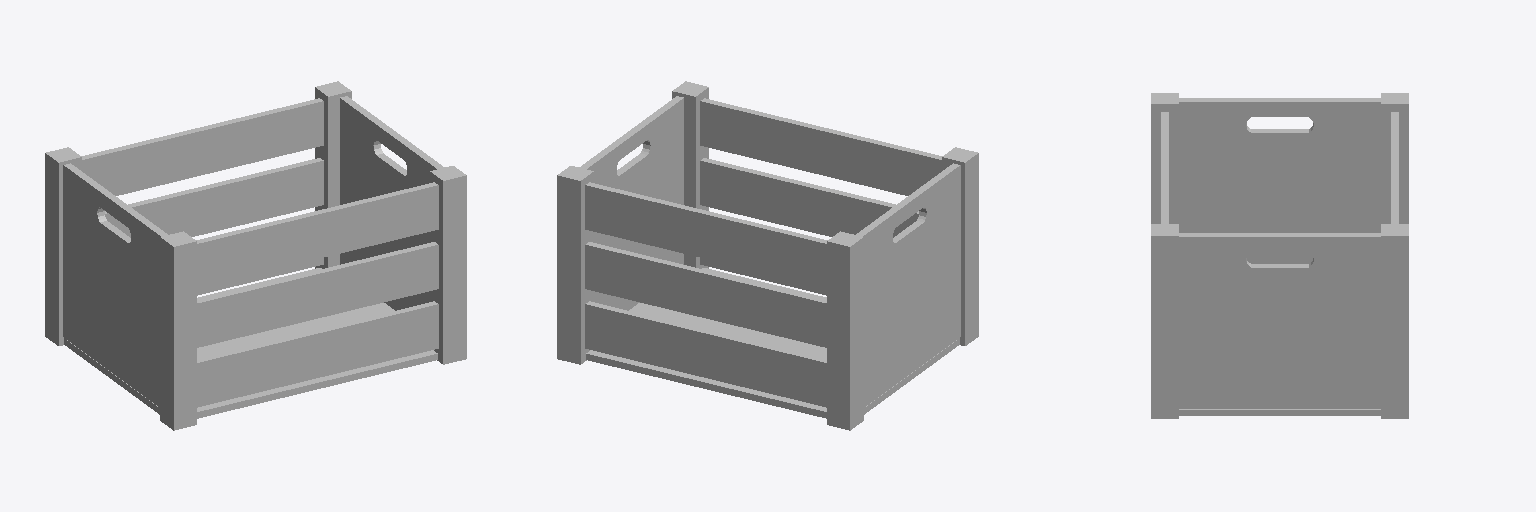
The model's file is Crate6.obj.
3 renders of one model, left to right at view 1: azimuth 30°, elevation 25°; view 2: azimuth 150°, elevation 25°; view 3: azimuth 270°, elevation 25°, orthographic.
Parts seen in each view (by area): view 1: Crate6; view 2: Crate6; view 3: Crate6.
Part boxes in pixels (x1,y1,x2,y2): Crate6: (45,81,466,430); Crate6: (557,81,978,430); Crate6: (1151,93,1408,418).
Size of the model in its own units: 19.67 by 11.78 by 14.95.